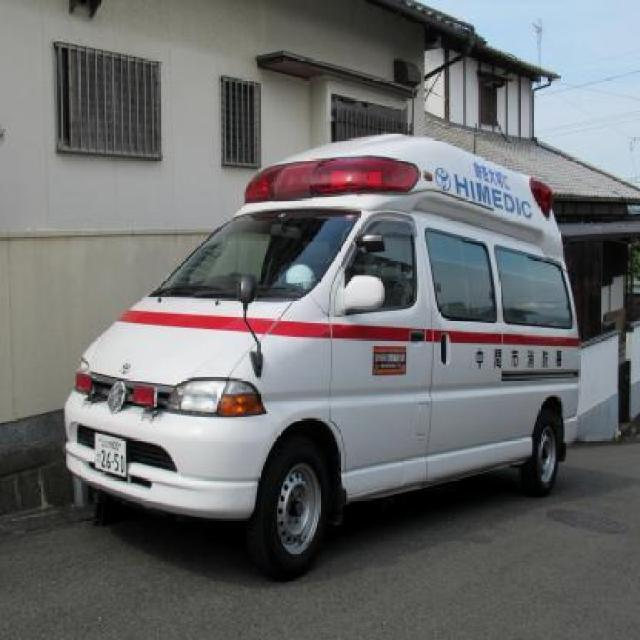Ambulance: (67, 146, 622, 581)
